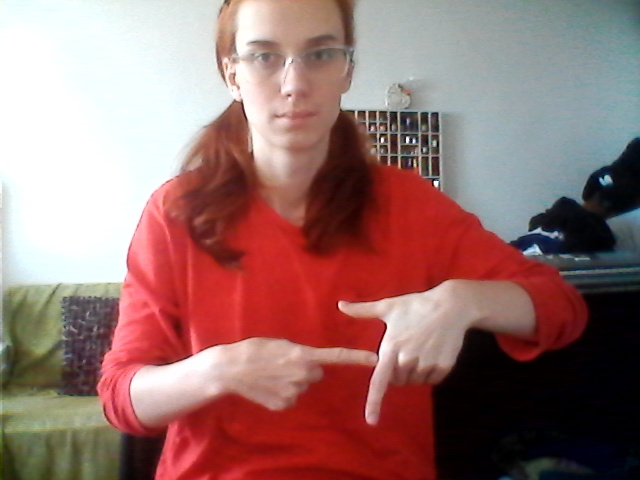f: (229, 271, 463, 429)
